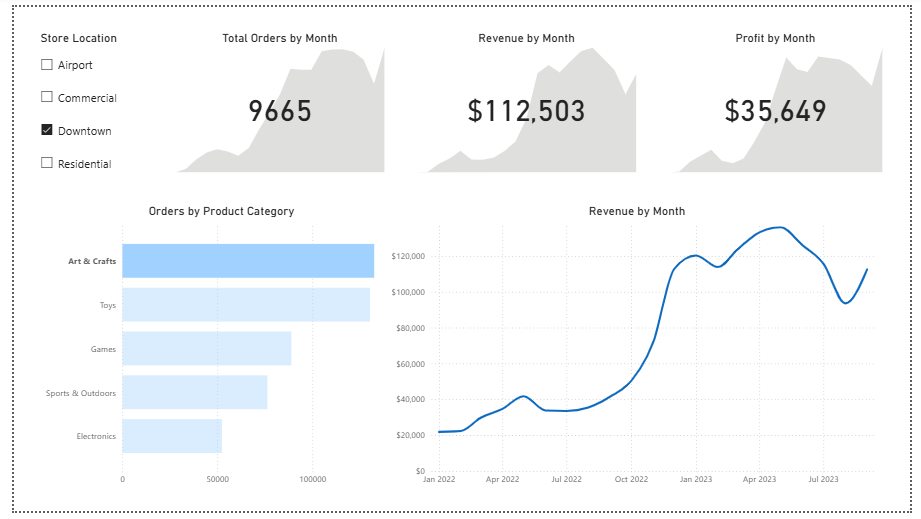

What the dashboard file says about the page in this screenshot:
{"tool":"powerbi","page":{"name":"Page 1","canvas":[1280,720],"ordinal":0},"visuals":[{"type":"kpi","title":"Total Orders by Month","fields":{"Indicator":["sales.Total Orders"],"TrendLine":["calendar.Start of Month"]},"box":[225.7,34.3,308.6,207.1],"z":0},{"type":"kpi","title":"Profit by Month","fields":{"Indicator":["sales.Profit (M)"],"TrendLine":["calendar.Start of Month"]},"box":[930,34.3,315.7,207.1],"z":1000},{"type":"kpi","title":"Revenue by Month","fields":{"Indicator":["sales.Revenue (M)"],"TrendLine":["calendar.Start of Month"]},"box":[570,34.3,324.3,207.1],"z":2000},{"type":"listSlicer","fields":{"Values":["stores.Store_Location"]},"box":[32.9,34.3,168.6,408.6],"z":3000},{"type":"clusteredBarChart","title":"Orders by Product Category","fields":{"Category":["products.Product_Category"],"Y":["sales.Total Orders"]},"box":[32.9,281.4,527.1,411.4],"z":4000},{"type":"lineChart","title":"Revenue by Month","fields":{"Category":["calendar.Start of Month Hierarchy.Start of Month","calendar.Start of Month Hierarchy.Start of Week","calendar.Start of Month Hierarchy.Date"],"Y":["sales.Revenue (M)"]},"box":[534.3,281.4,711.4,411.4],"z":5000}]}

Visuals, with their boxes in screenshot pixels (x1, y1, x2, y2), scaled from the page's 1280x720 canvas onto the 921x519 screenshot:
"Total Orders by Month" kpi: bbox=(162, 25, 384, 174)
"Profit by Month" kpi: bbox=(669, 25, 896, 174)
"Revenue by Month" kpi: bbox=(410, 25, 643, 174)
listSlicer - stores.Store_Location: bbox=(24, 25, 145, 319)
"Orders by Product Category" clusteredBarChart: bbox=(24, 203, 403, 499)
"Revenue by Month" lineChart: bbox=(384, 203, 896, 499)
